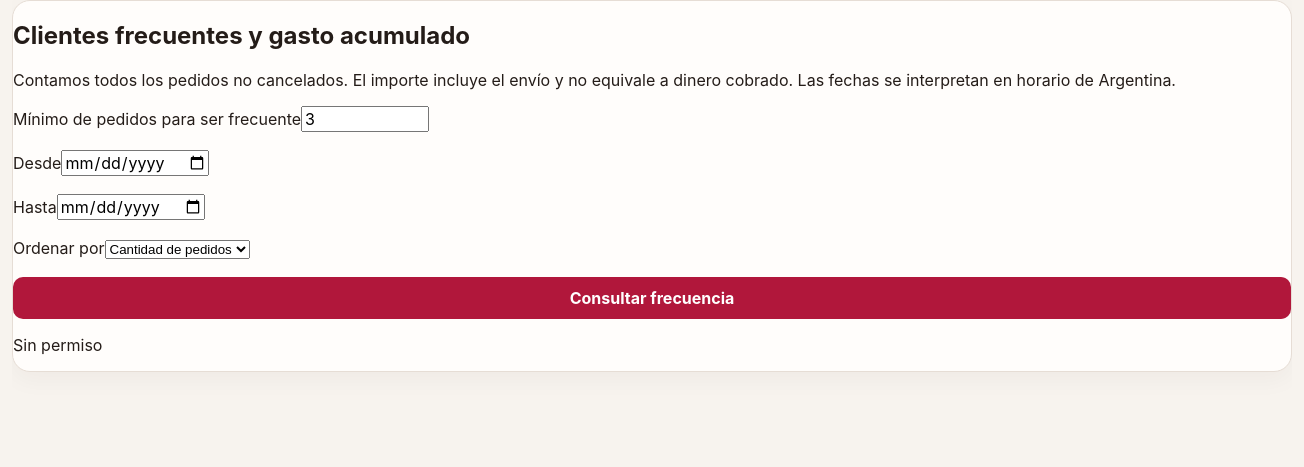
Test: informa un error y permite volver a consultar
Expected: the message reads "Sin permiso", left=13, top=335, right=102, bottom=355
Click the button "Consultar frecuencia".
click(652, 298)  # box left=13, top=277, right=1291, bottom=319
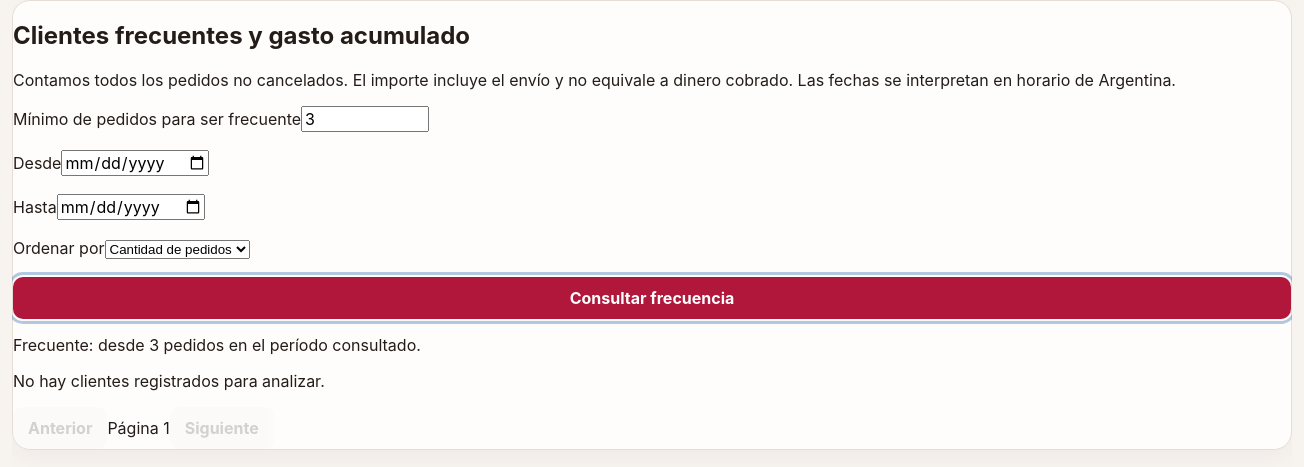
Expected: the text "No hay clientes registrados para analizar." is shown, left=13, top=371, right=325, bottom=391
